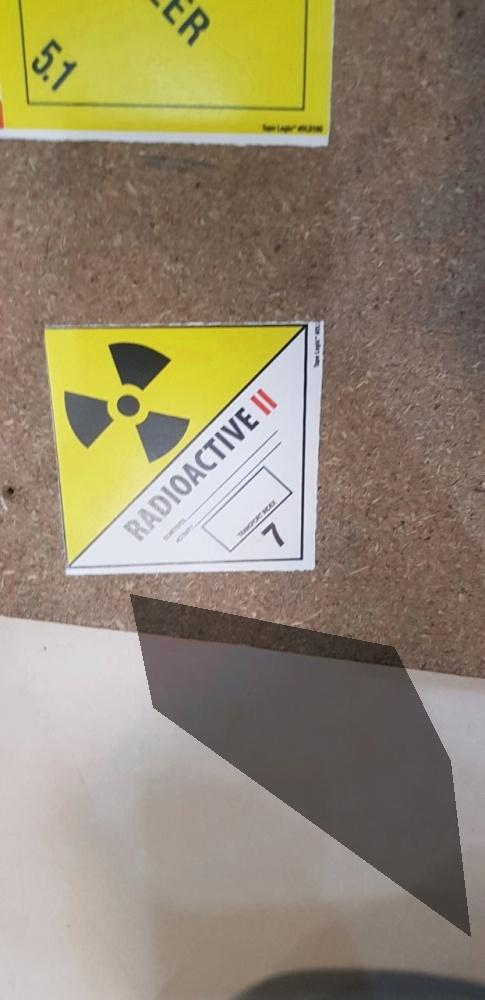oxidizer: (4, 1, 334, 133)
radioactive: (44, 323, 308, 567)
